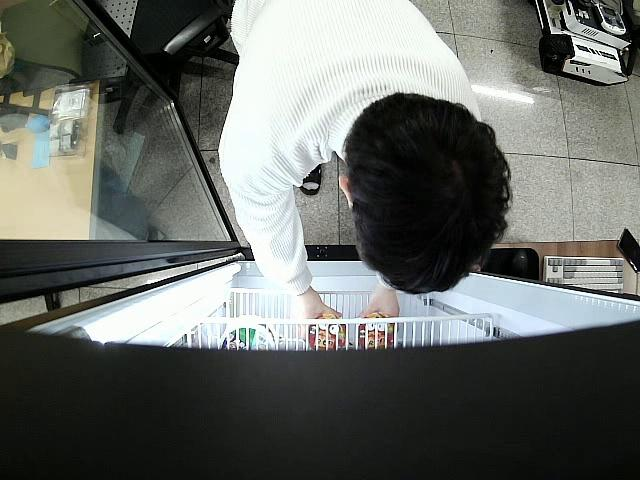00_hand: (297, 294, 344, 340), (357, 286, 401, 331)
06_nuguri_S: (307, 312, 346, 352), (356, 315, 397, 348)
